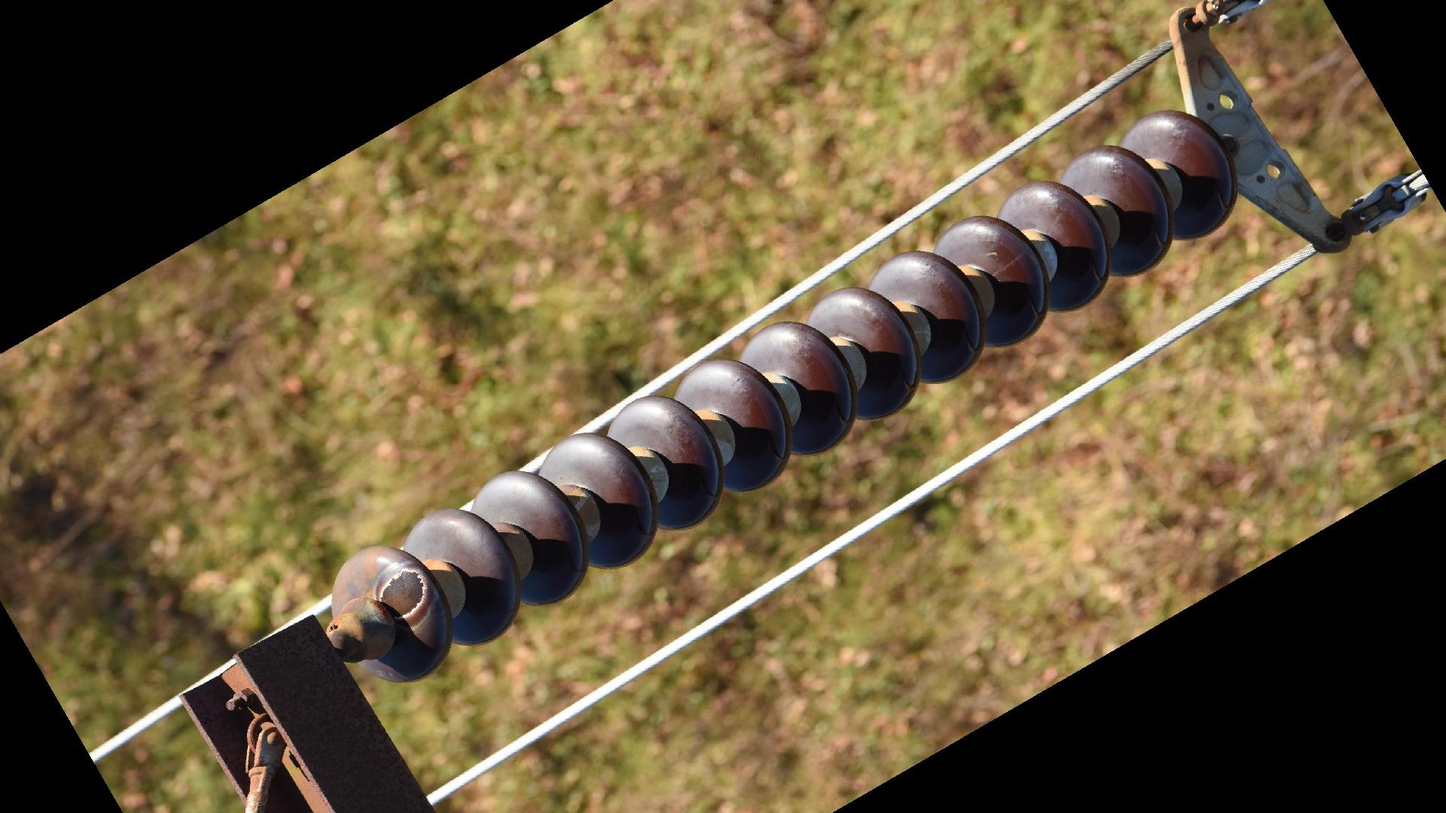insulator: (328, 103, 1243, 688)
insulator_flashover: (378, 566, 427, 617)
